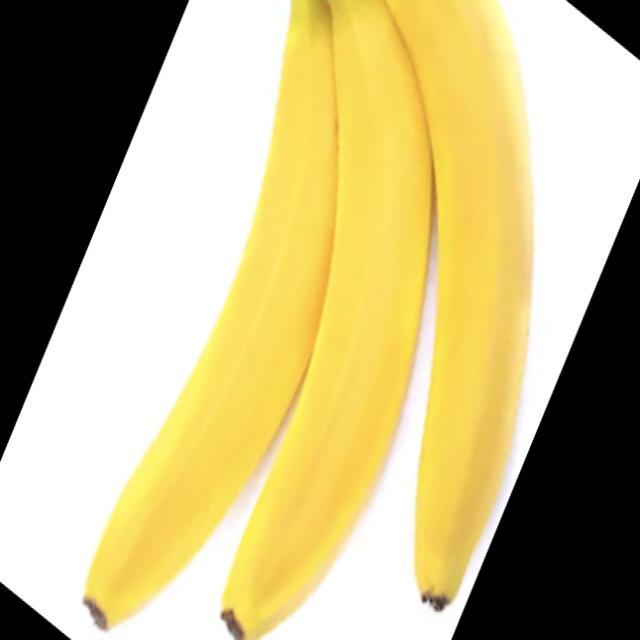Banana: (81, 0, 534, 639)
